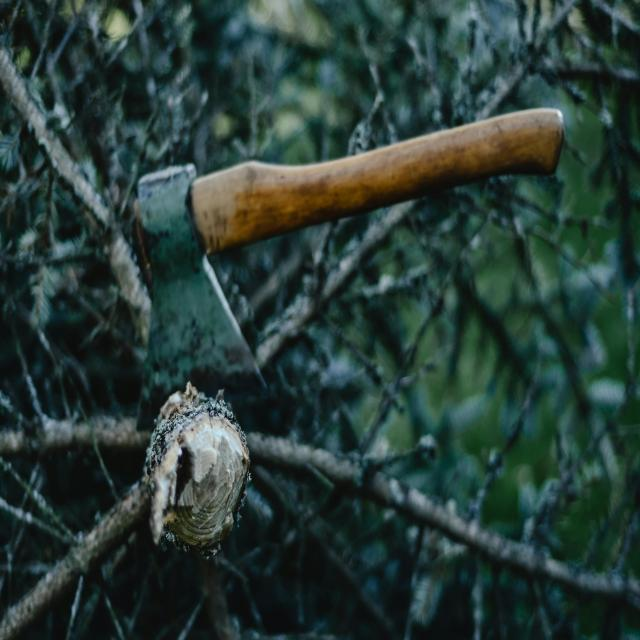Axe: (136, 109, 564, 433)
